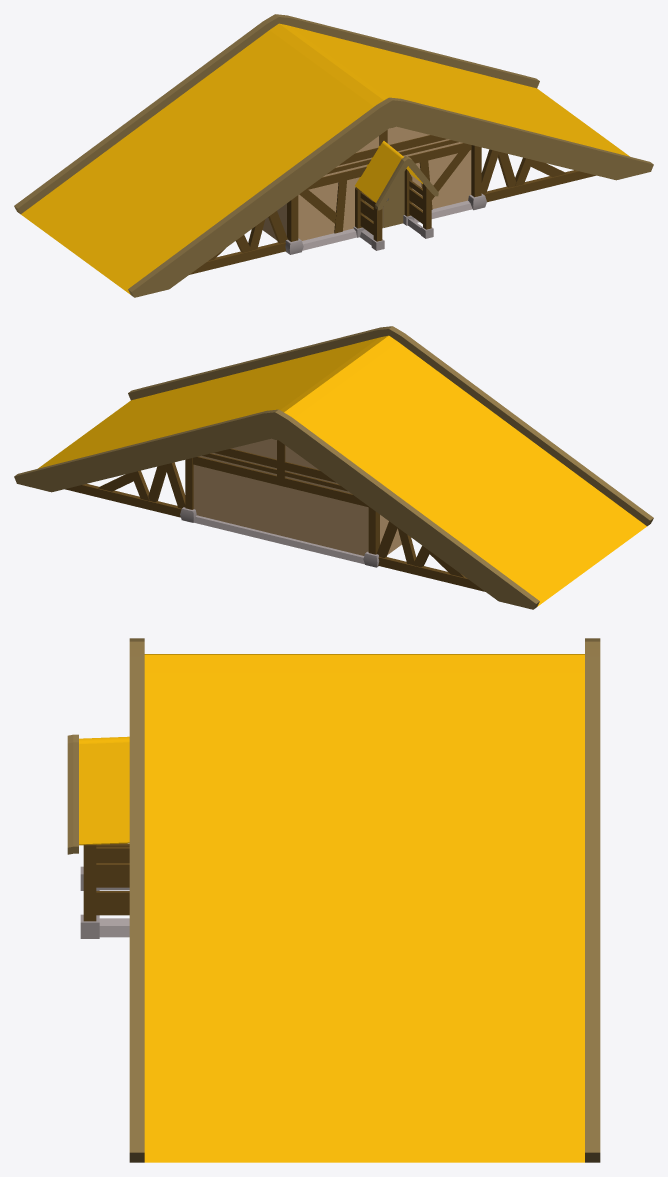
File: Modular_Houses_Ramp_House_2.fbx
3 views of the same model, one above another, from view 1: azimuth 30°, elevation 25°; view 2: azimuth 150°, elevation 25°; view 3: azimuth 270°, elevation 25° (orthographic). The views are drawn at different scales.
Visible parts, largest first — view 1: Ramp_House_2; view 2: Ramp_House_2; view 3: Ramp_House_2.
Boxes of the visible parts, x1,y1,x2,y2 form: Ramp_House_2: (14,14,653,297); Ramp_House_2: (14,326,653,609); Ramp_House_2: (67,638,600,1162).
Bounding box in the file's own units: 2297 × 566 × 1015.
